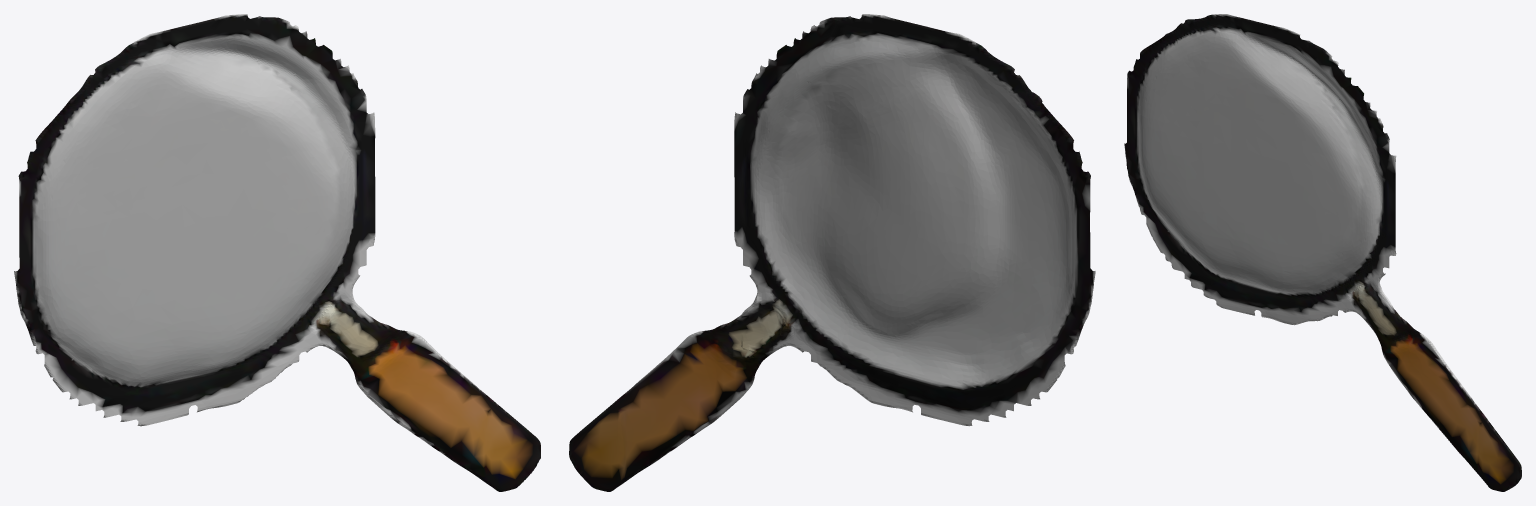
The model's file is magnifier.glb.
3 views of the same model, side by side, from view 1: azimuth 30°, elevation 25°; view 2: azimuth 150°, elevation 25°; view 3: azimuth 330°, elevation 25° (orthographic). The views are drawn at different scales.
Visible parts, largest first — view 1: geometry_0; view 2: geometry_0; view 3: geometry_0.
Part boxes in pixels (x1,y1,x2,y2): geometry_0: (14,14,540,491); geometry_0: (569,14,1095,491); geometry_0: (1124,14,1521,491).
Size of the model in its own units: 0.875 by 0.8638 by 0.0362.
